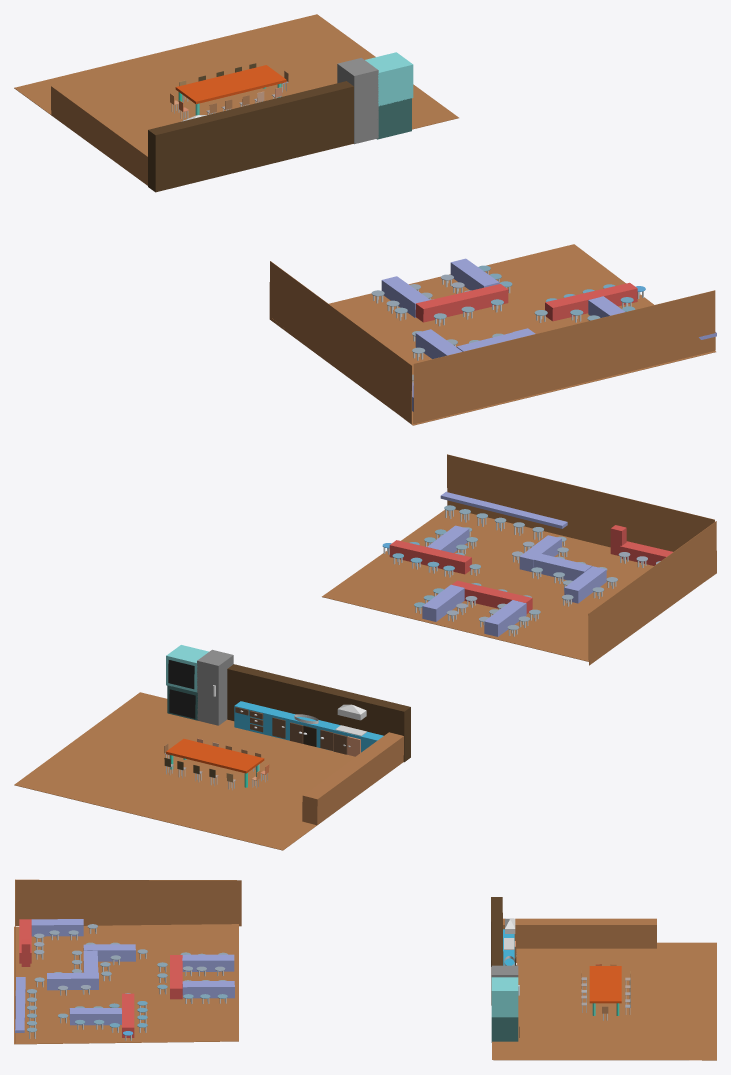
File: escenario.fbx
3 renders of one model, top to bottom at view 1: azimuth 30°, elevation 25°; view 2: azimuth 150°, elevation 25°; view 3: azimuth 270°, elevation 25°, orthographic. The views are drawn at different scales.
Visible parts, largest first — view 1: Cube.004, Cube.015, Cube.018, Cube, Cube.005, Cube.016, Cube.019, Cube.022, Cube.006, Cube.021, Cube.009, Cube.020 (+3 smaller); view 2: Cube.015, Cube, Cube.004, Cube.005, Cube.018, Cube.016, Cube.019, Cube.017, Cube.022, Cube.009, Cube.014, Cube.006 (+10 smaller); view 3: Cube.015, Cube, Cube.005, Cube.016, Cube.022, Cube.021, Cube.018, Cube.003, Cube.011, Cube.010, Cube.007, Cube.008 (+8 smaller).
Part boxes in pixels (x1,y1,x2,y2): Cube.004: [413, 290, 715, 423]; Cube.015: [14, 14, 458, 148]; Cube.018: [148, 81, 353, 192]; Cube: [271, 244, 715, 425]; Cube.005: [269, 261, 412, 424]; Cube.016: [51, 81, 147, 185]; Cube.019: [337, 58, 378, 144]; Cube.022: [175, 65, 286, 104]; Cube.006: [415, 284, 508, 322]; Cube.021: [365, 52, 413, 106]; Cube.009: [545, 282, 637, 321]; Cube.020: [377, 98, 411, 139]; Cube.015: [14, 692, 354, 850]; Cube: [322, 509, 716, 661]; Cube.004: [447, 454, 714, 551]; Cube.005: [588, 521, 716, 665]; Cube.018: [227, 664, 410, 762]; Cube.016: [302, 732, 403, 825]; Cube.019: [197, 649, 233, 725]; Cube.017: [234, 701, 383, 752]; Cube.022: [166, 738, 264, 773]; Cube.009: [389, 540, 471, 574]; Cube.014: [440, 491, 567, 528]; Cube.006: [452, 580, 532, 613]; Cube.015: [492, 942, 716, 1060]; Cube: [14, 924, 238, 1044]; Cube.005: [15, 879, 241, 926]; Cube.016: [503, 918, 656, 948]; Cube.022: [589, 966, 621, 1003]; Cube.021: [491, 977, 518, 1017]; Cube.018: [491, 897, 503, 1005]; Cube.003: [31, 919, 83, 936]; Cube.011: [47, 972, 98, 990]; Cube.010: [69, 1008, 121, 1025]; Cube.007: [182, 981, 234, 998]; Cube.008: [182, 954, 234, 971].
Bounding box in the file's own units: 6176 × 1183 × 13612.
